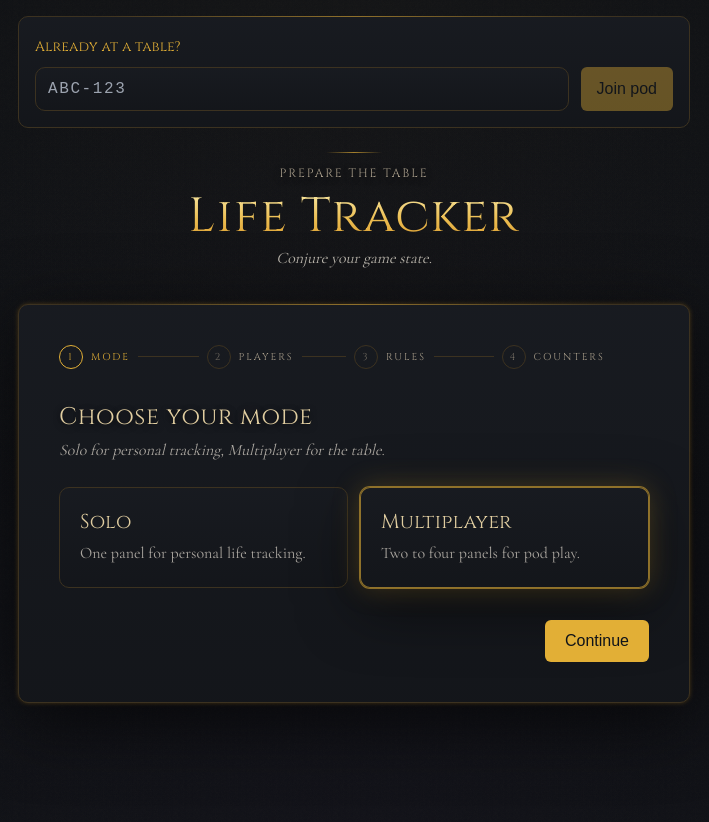
Tracker Page › solo mode skips the players step
Click the button with test id "mode-solo": (106, 522) [59,487,348,588]
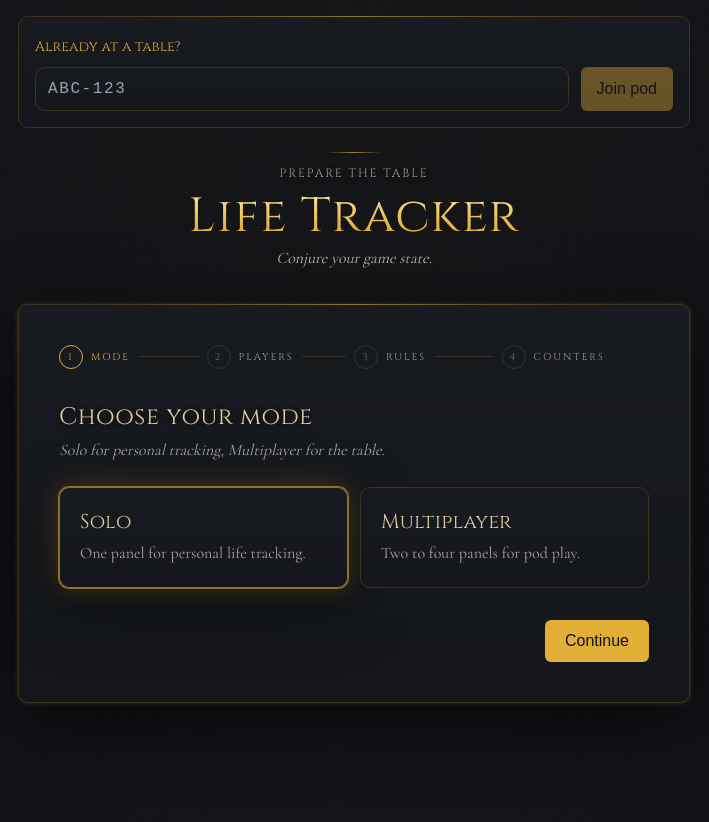
Click the button with test id "button-wizard-next": (597, 641) [545,620,649,662]
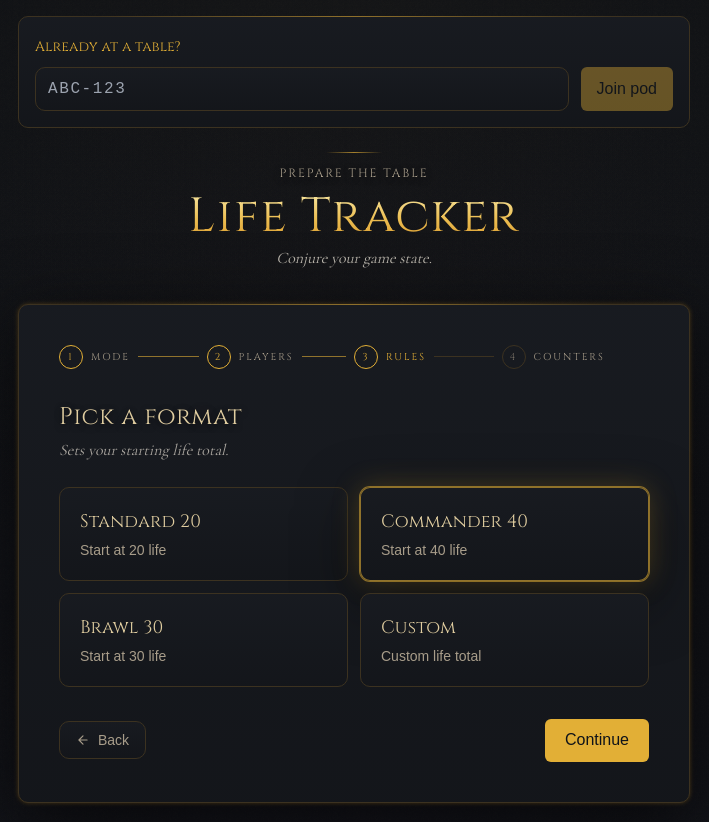
Now the button with test id "format-commander-40" is shown, box [360,487,649,581]
